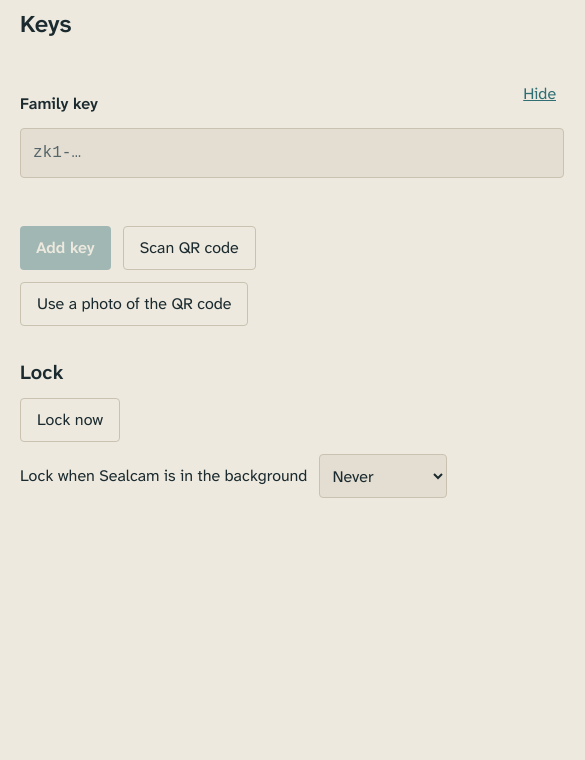
Test: lock › lock message for a session-only key
Type "zk1-000102030405060708090a0b0c0d0e0f101112131415161718191a1b1c1d1e1f-2418" into the field labelled "Family key" at (292, 153), box [20,128,564,178]
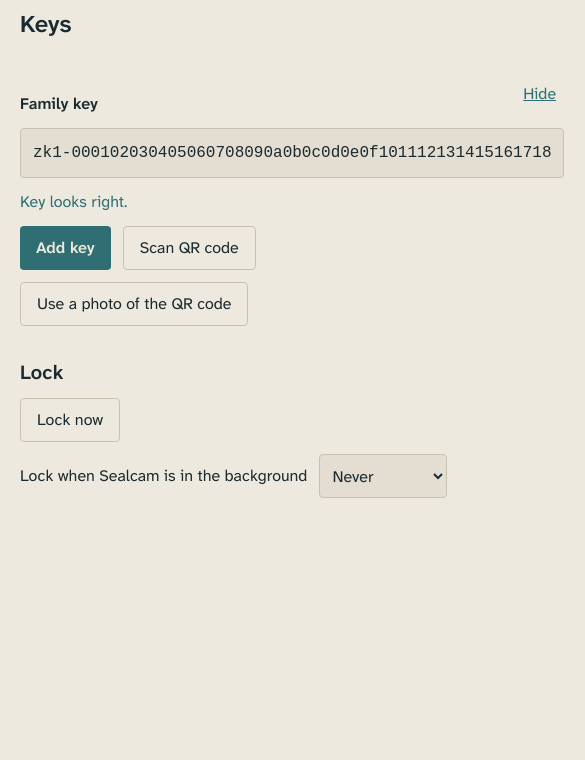
Click the button "Add key" at (65, 248), box [20,226,111,270]
(page scrolled)
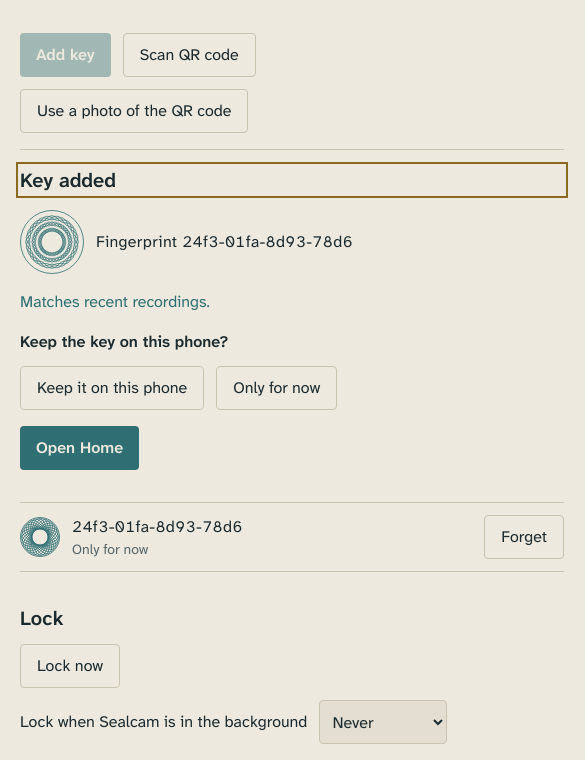
Result: the heading "Key added" is shown at [20,167,116,193]
Click the button "Lock now" at (70, 666), box [20,644,120,688]
(page scrolled)
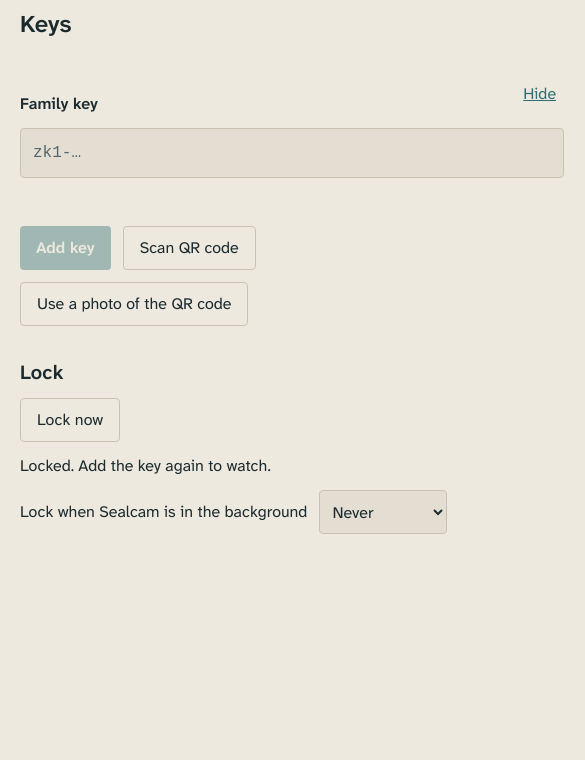
Result: the text "Locked. Add the key again to watch." is shown at [20,455,271,476]
